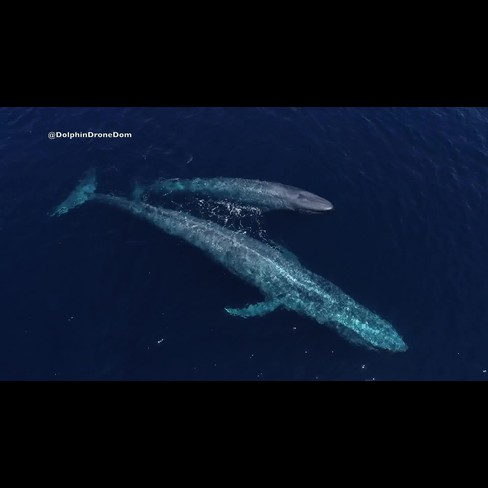bluewhale: (48, 163, 412, 362), (131, 168, 337, 226)
